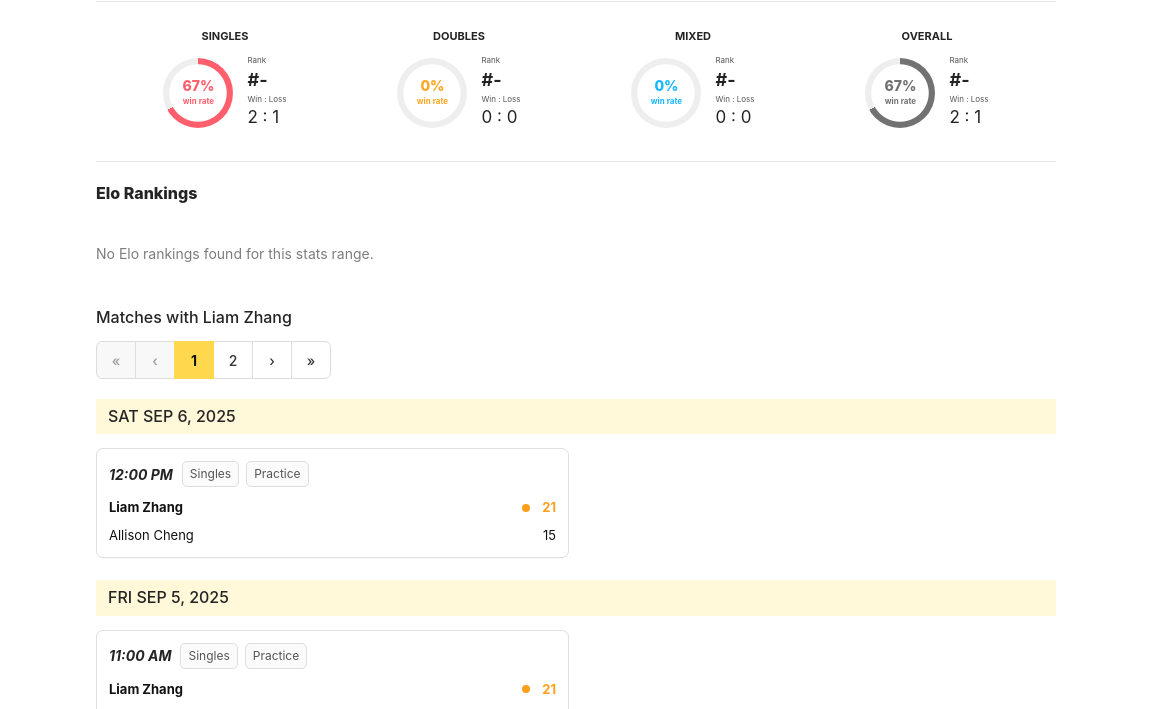
Test: paginates player profile match history after six matches
(page scrolled)
Check: the navigation bar named "Profile match pages" is shown, box left=96, top=341, right=331, bottom=379
Check: the text "1:00 PM" is not shown
What coordinates should you click on to do the following:
click the button "2"
I would click on:
 (233, 360)
Its box is left=213, top=341, right=253, bottom=379.
(page scrolled)
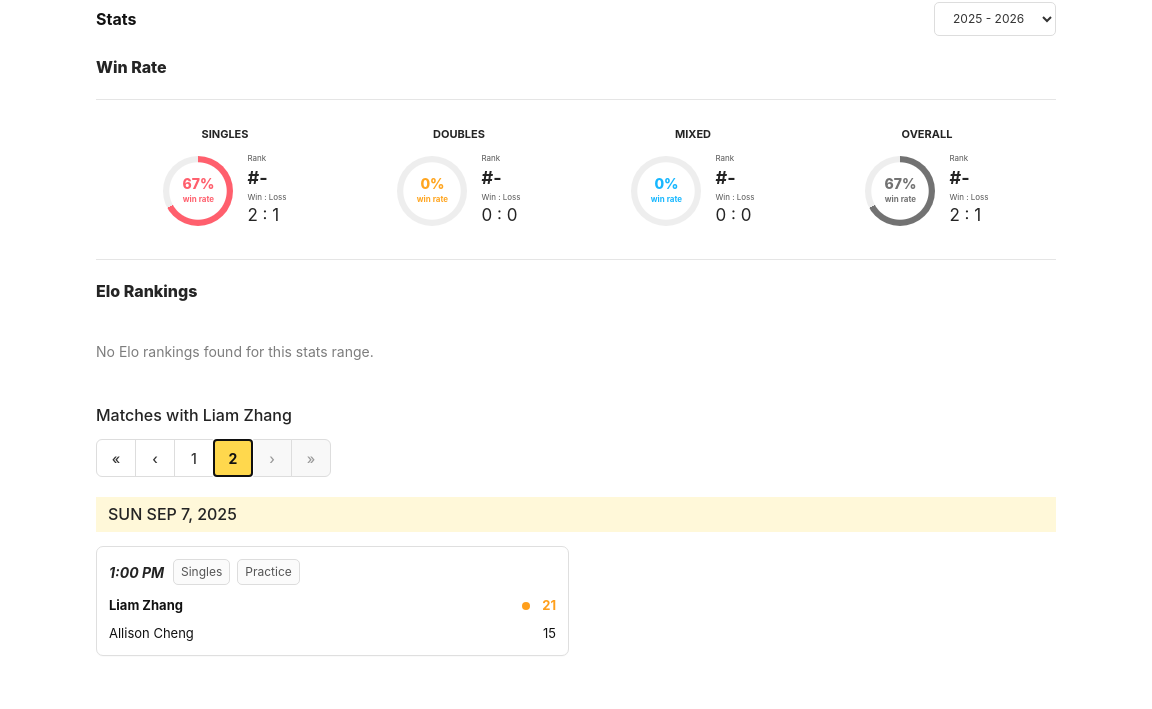
Check: the text "1:00 PM" is shown, box left=109, top=562, right=164, bottom=583
